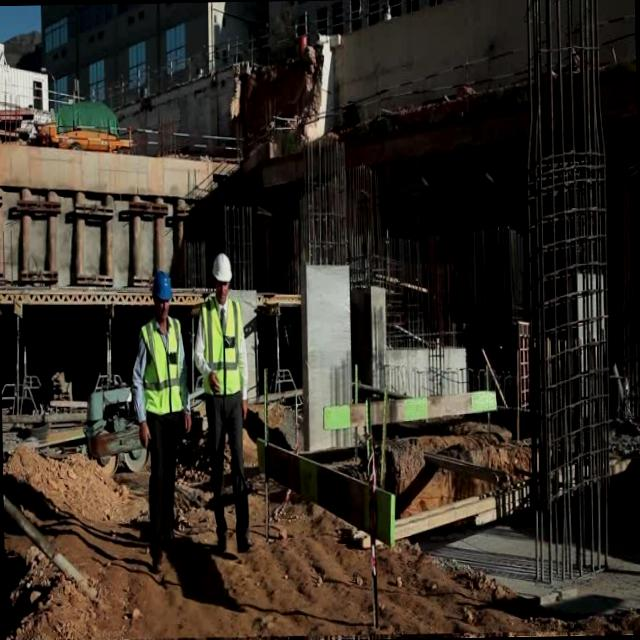helmet: (148, 268, 174, 306), (210, 250, 234, 284)
vest: (192, 289, 252, 405), (138, 310, 192, 432)
